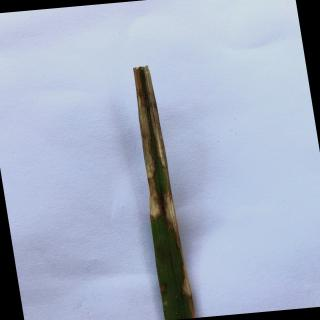Hawar-Daun: (132, 65, 170, 218), (162, 192, 182, 257), (180, 260, 197, 320)
